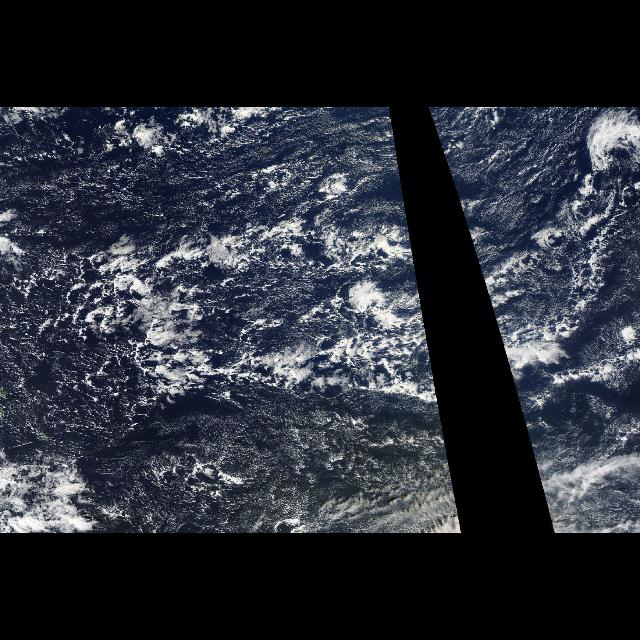Gravel: (1, 234, 176, 446)
Sugar: (2, 112, 416, 268), (161, 406, 441, 522), (429, 112, 535, 178)
